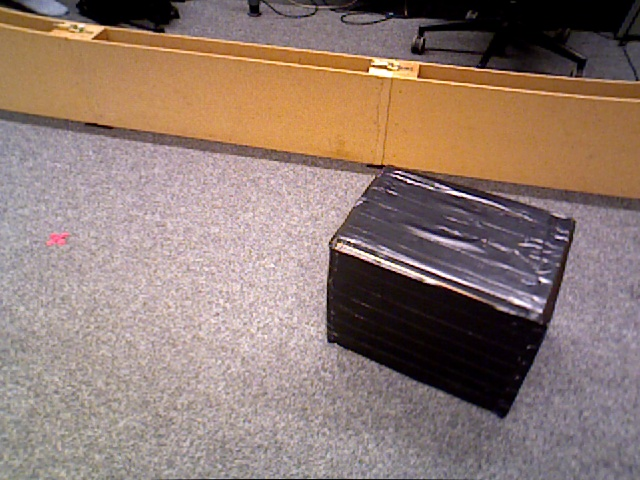push: (334, 166, 574, 418)
